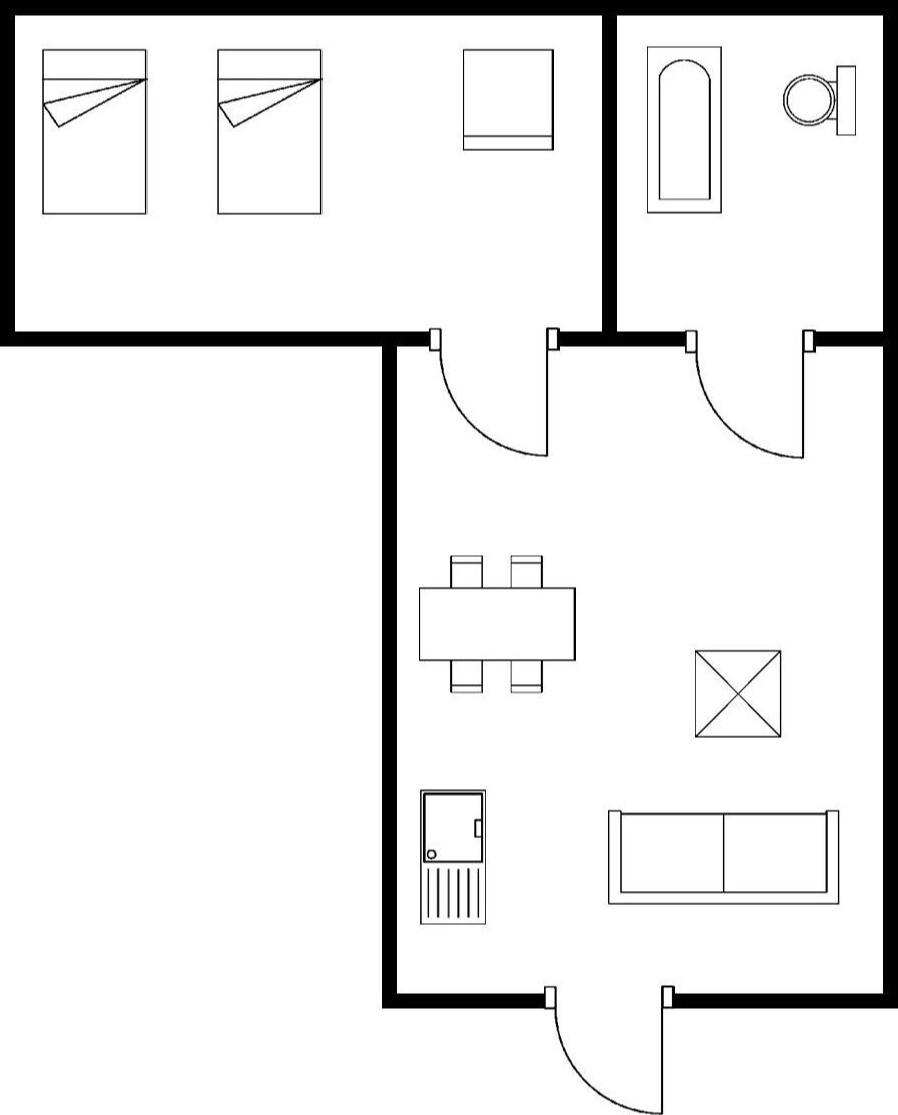bed: (34, 41, 154, 219), (212, 42, 326, 218)
dining_table: (410, 547, 583, 696)
sink: (413, 783, 491, 929)
sofa: (600, 803, 845, 910)
toilet: (777, 60, 863, 144)
tub: (640, 38, 728, 217)
